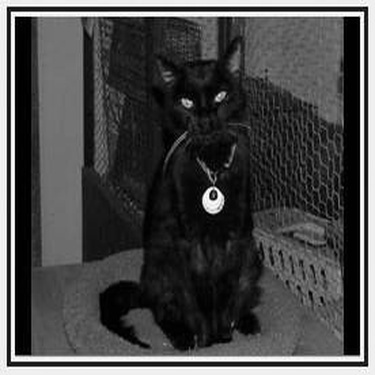cat: (91, 27, 264, 334)
